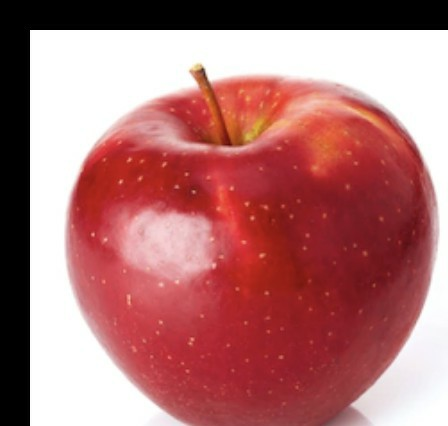fresh_apple: (68, 71, 440, 426)
